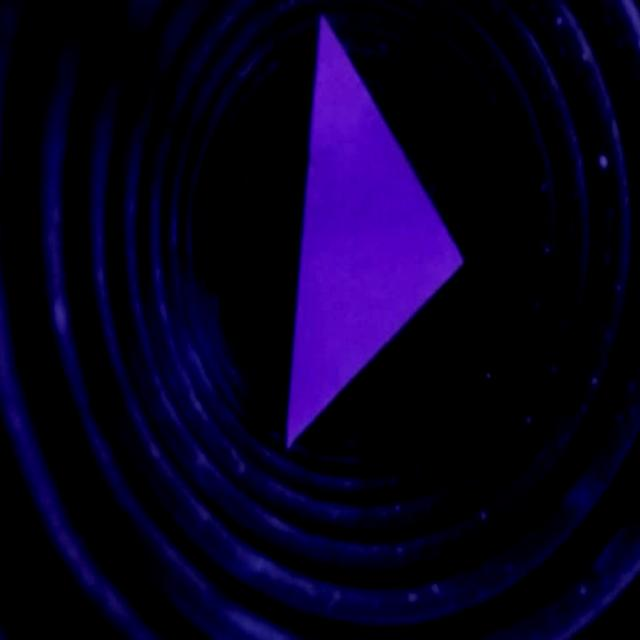obstacles: (287, 4, 468, 452)
